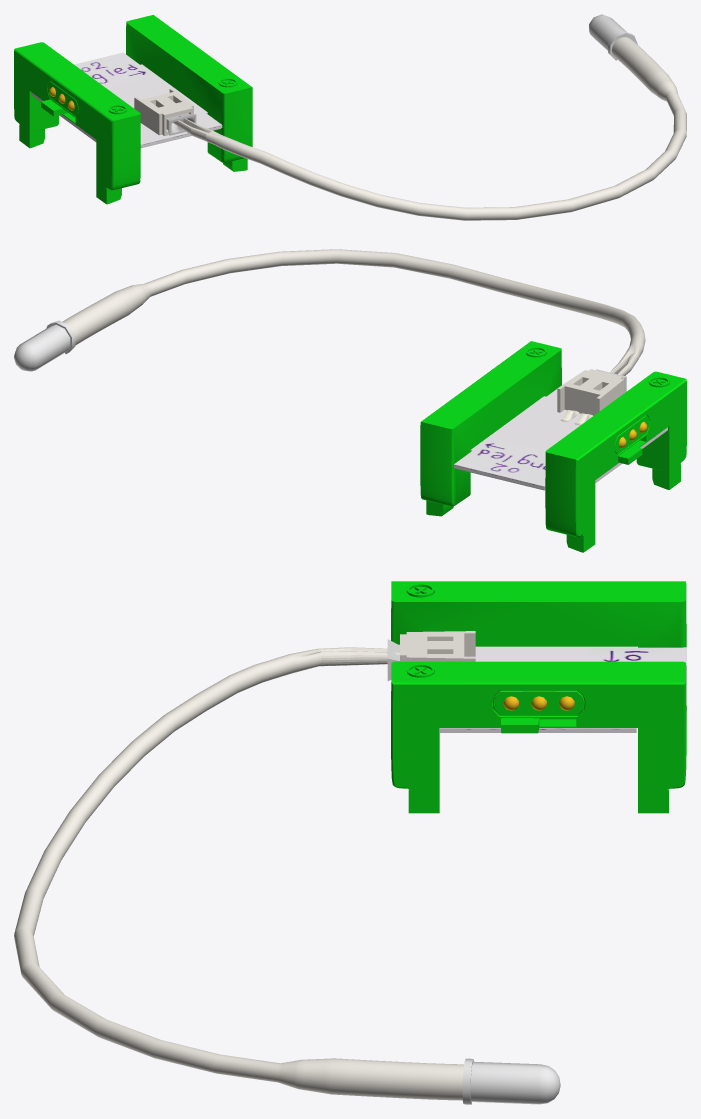
Rendered from littlebit o2 long led.fbx.
3 views of the same model, one above another, from view 1: azimuth 30°, elevation 25°; view 2: azimuth 150°, elevation 25°; view 3: azimuth 270°, elevation 25° (orthographic). The views are drawn at different scales.
Parts seen in each view (by area): view 1: Line002, wire, Line001, Box001, Box014, Led Light, Box015; view 2: Line002, wire, Line001, Box001, Box014, Led Light; view 3: Line001, wire, Line002, Box001, Led Light, Box014.
Boxes of the visible parts, x1,y1,x2,y2 form: Line002: (14,42,140,204); wire: (173,37,686,220); Line001: (126,15,252,171); Box001: (31,52,222,147); Box014: (134,88,193,135); Led Light: (589,14,637,60); Box015: (166,113,196,135); Line002: (545,371,686,552); wire: (62,249,645,375); Line001: (420,341,561,516); Box001: (454,389,667,489); Box014: (557,369,623,415); Led Light: (14,320,75,371); Line001: (391,661,686,813); wire: (14,647,463,1100); Line002: (391,581,686,647); Box001: (440,646,686,732); Led Light: (462,1058,560,1104); Box014: (400,631,475,661).
Bounding box in the file's own units: 85.68 × 59.76 × 13.17.
